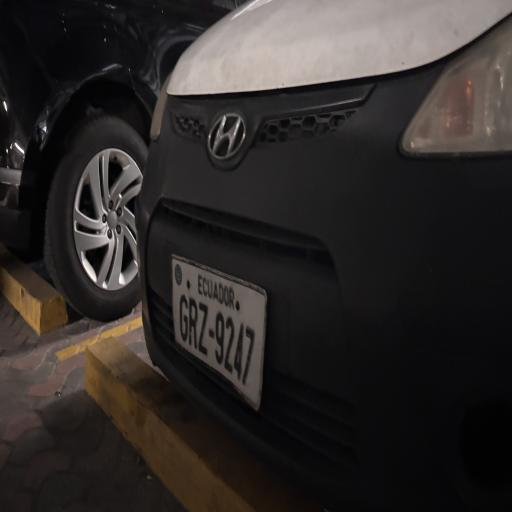license_plate: (172, 255, 266, 409)
